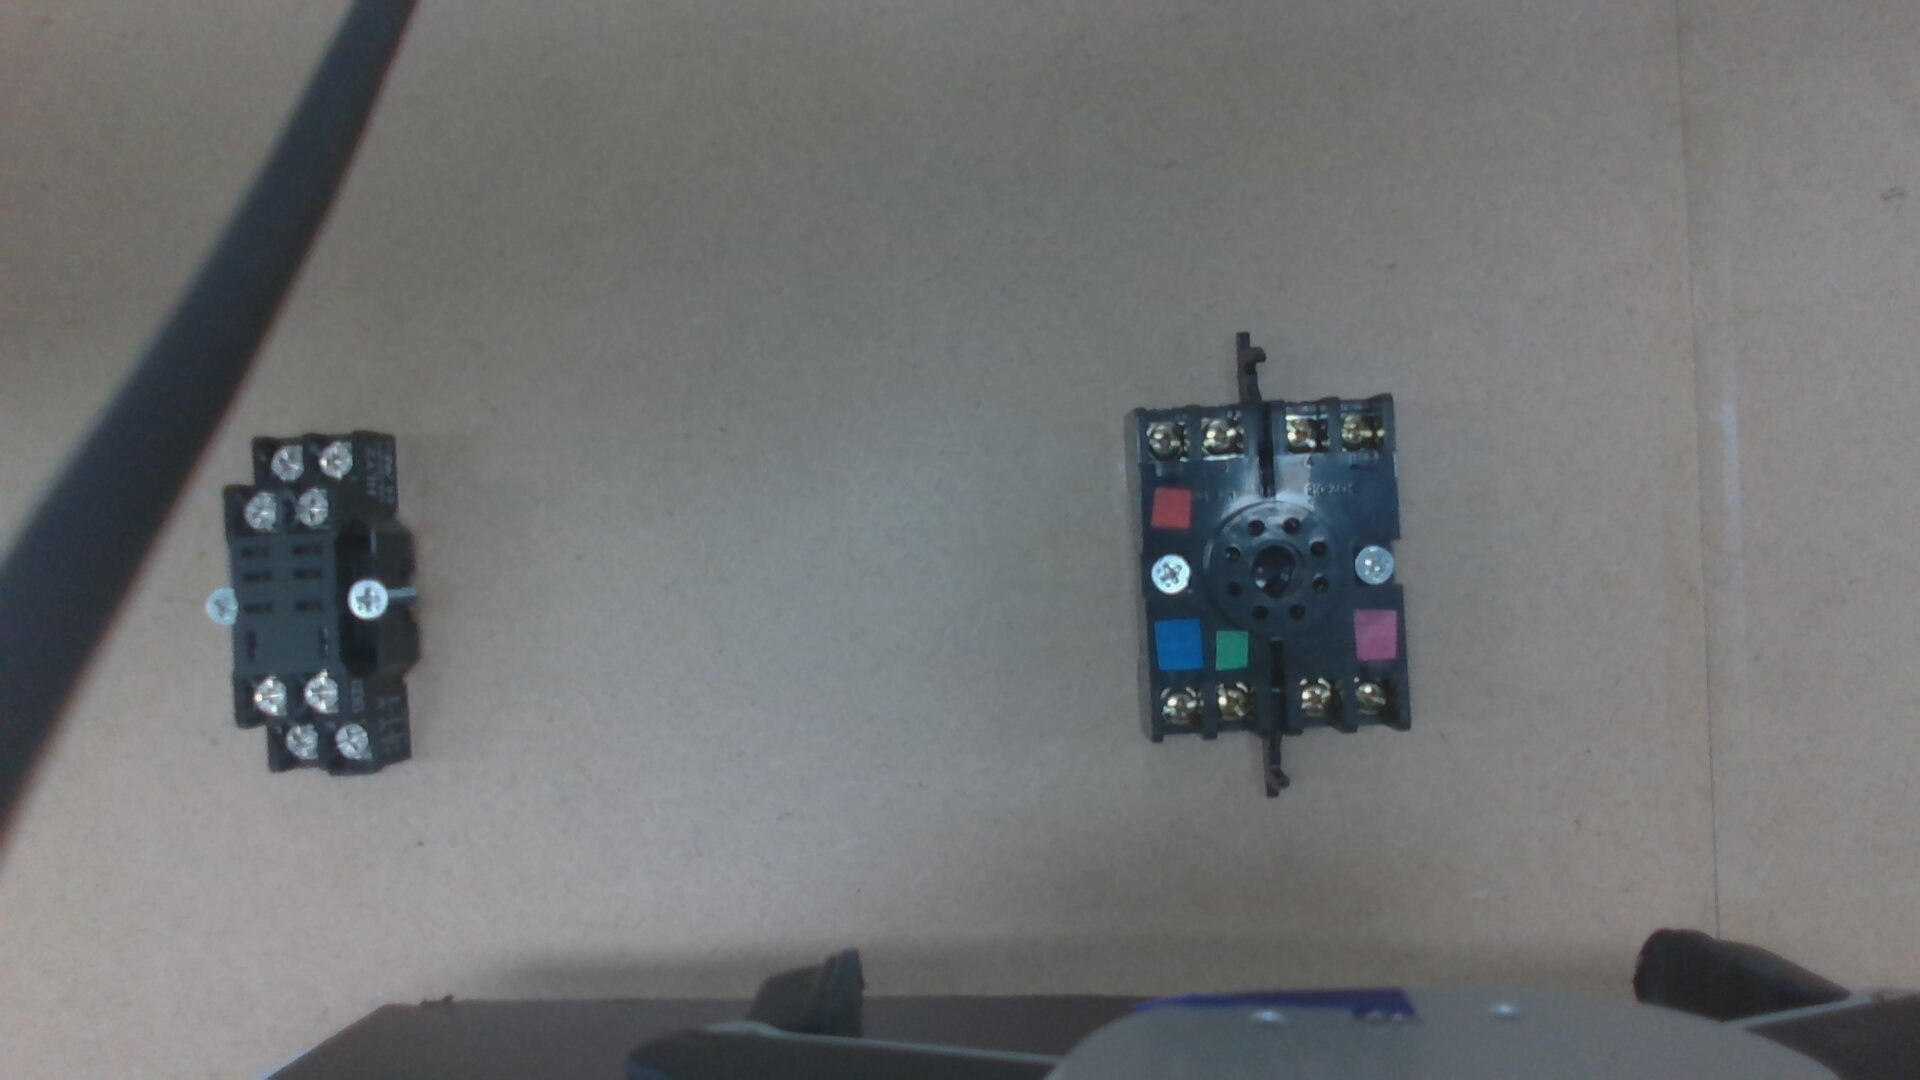timer 2: (1354, 675, 1393, 716)
timer 6: (1146, 421, 1185, 458)
timer 7: (1159, 688, 1199, 727)
timer 8: (1215, 683, 1251, 723)
